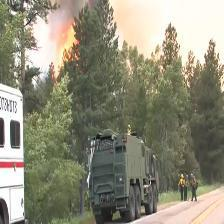fire: (45, 18, 98, 76)
